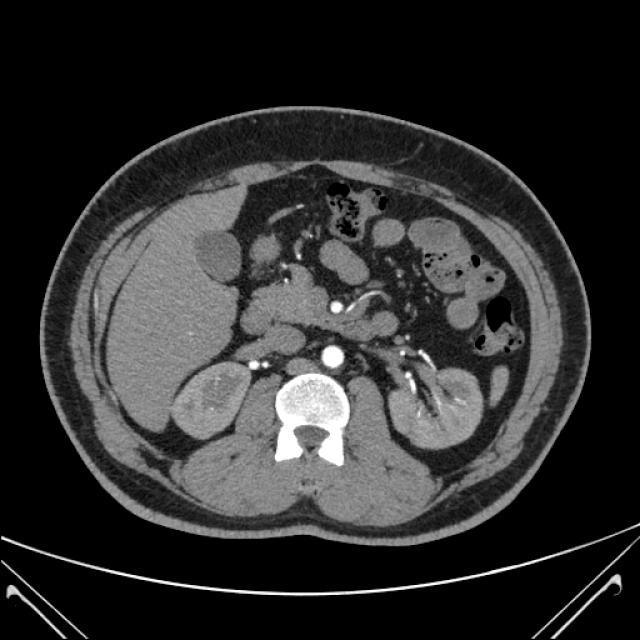Kidney: (54, 81, 606, 564)
